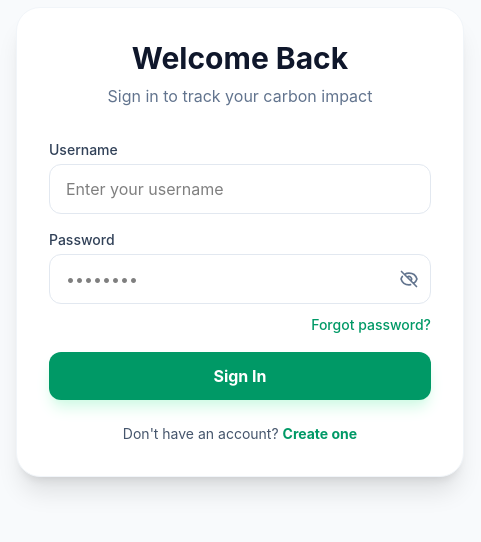
Test: LoginPage › shows error message on login failure
Type "wronguser" into the field with placeholder "Enter your username". click: (240, 189)
box: [49,164,431,214]
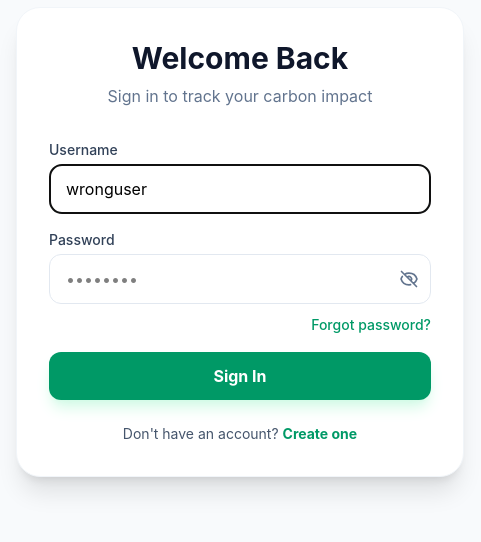
Type "wrongpass" into the password field with placeholder "••••••••". click: (240, 279)
box: [49,254,431,304]
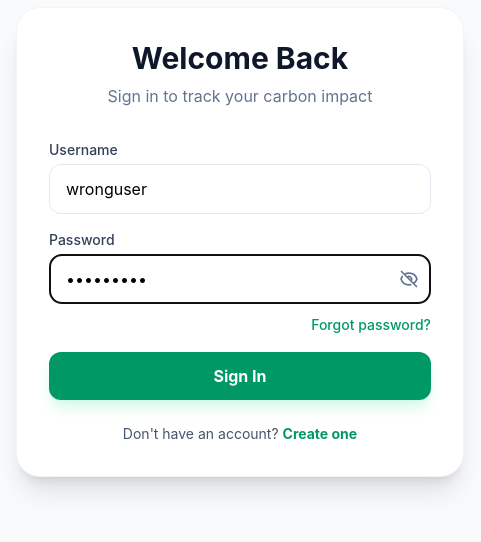
Click the button "Sign In". click: (240, 376)
box: [49,352,431,400]
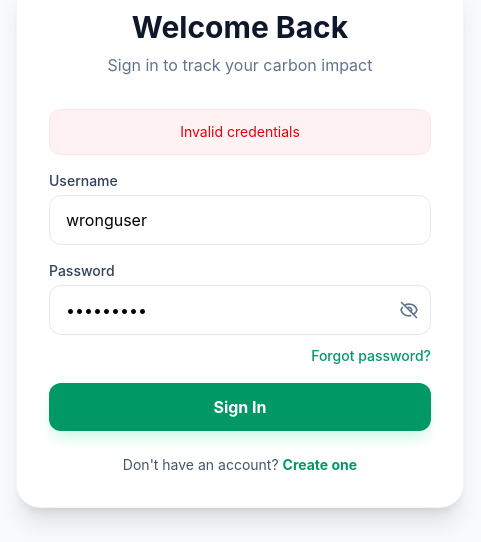
Expected: the text "Invalid credentials" is shown, [49,109,431,155]
